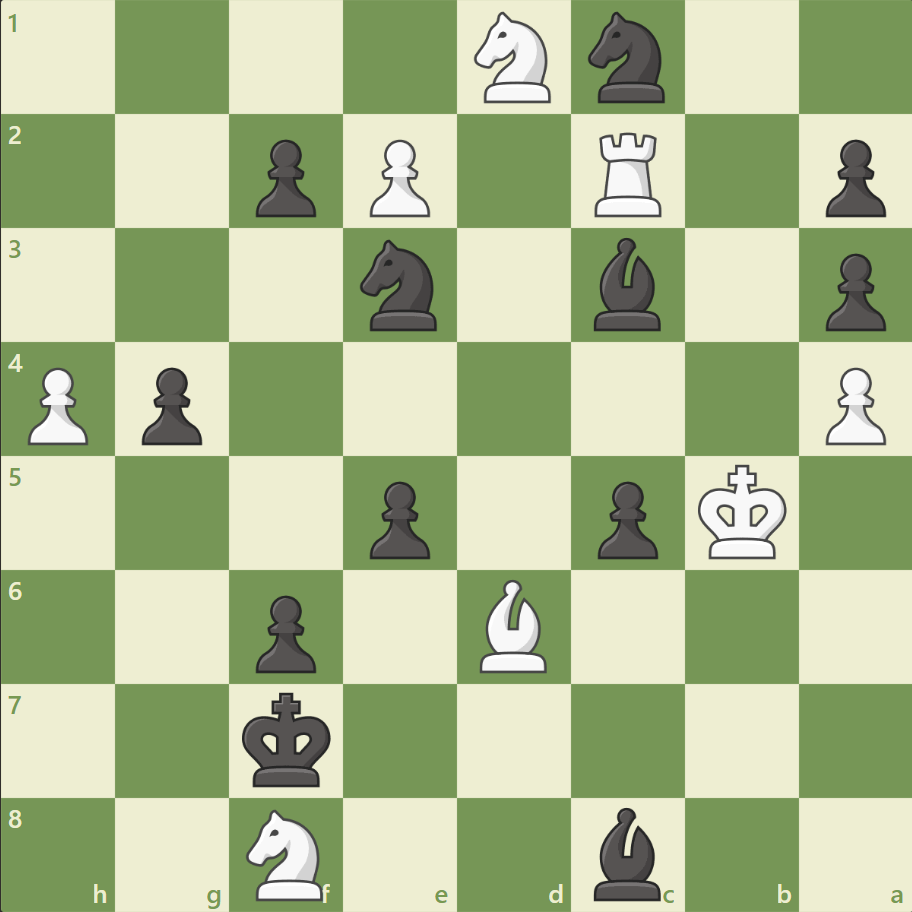B: (471, 574, 555, 676)
K: (692, 458, 792, 566)
N: (465, 7, 562, 110), (238, 802, 335, 904)
P: (20, 359, 95, 450), (815, 359, 889, 450), (361, 132, 435, 223)
R: (587, 125, 670, 222)
b: (585, 801, 669, 904), (585, 233, 669, 336)
k: (238, 685, 338, 793)
n: (351, 234, 449, 337), (579, 7, 676, 110)
p: (247, 586, 322, 677), (133, 359, 208, 450), (247, 132, 322, 223), (588, 473, 662, 564), (361, 473, 435, 564), (815, 246, 889, 337), (815, 132, 889, 223)
